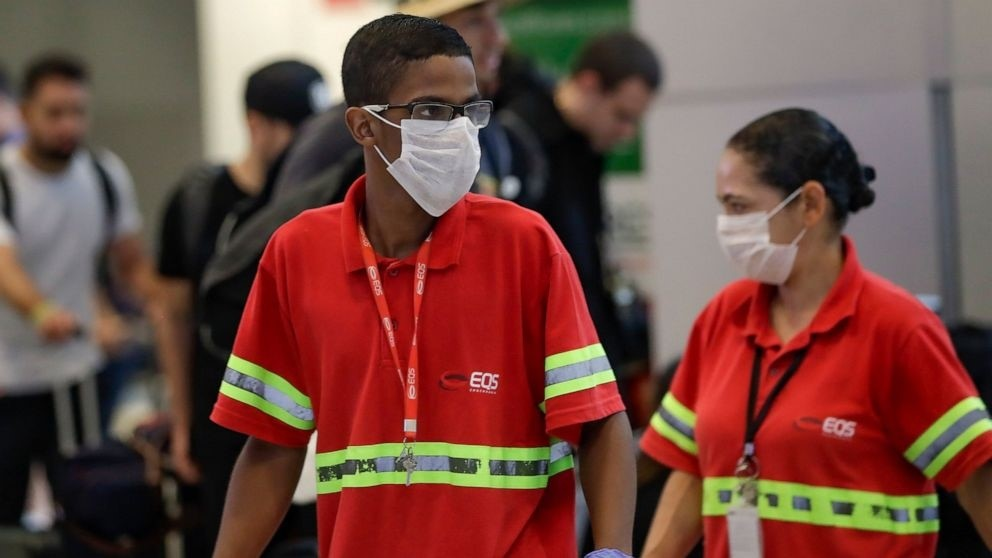face_no_mask: (559, 32, 660, 149), (19, 52, 94, 160), (431, 1, 513, 86)
face_with_mask: (341, 12, 491, 219), (711, 109, 872, 290)
